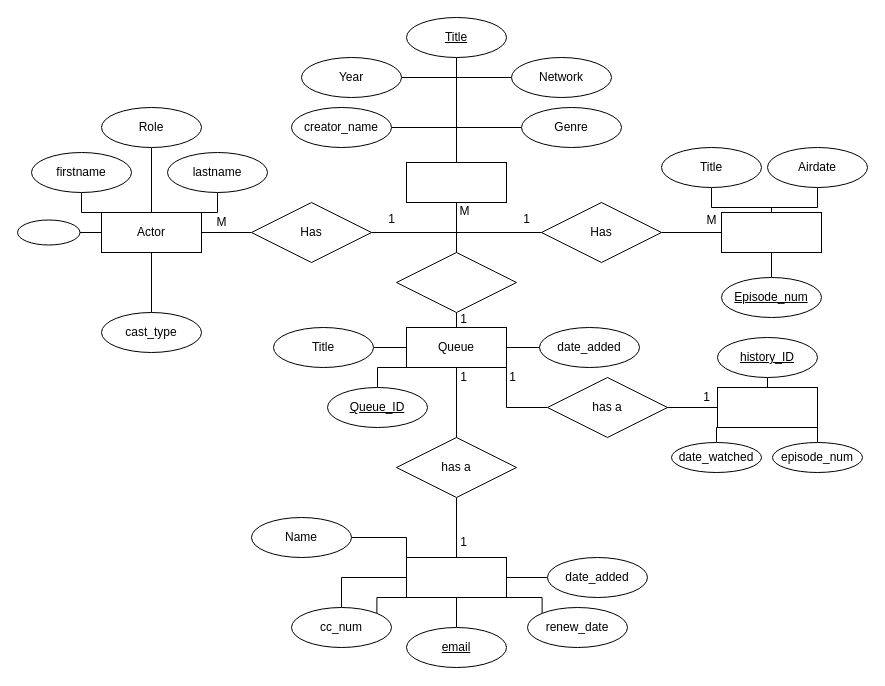
The diagram is 885 pixels wide and 686 high, and some of its shapes have lost their labels. Each missing label, with the centre of its shape:
"Actor_num" goes at pixel 48 232.
"Customer" goes at pixel 456 577.
"Episode" goes at pixel 771 232.
"Relationship" goes at pixel 456 282.
"Show" goes at pixel 456 182.
"Watch_history" goes at pixel 767 407.
